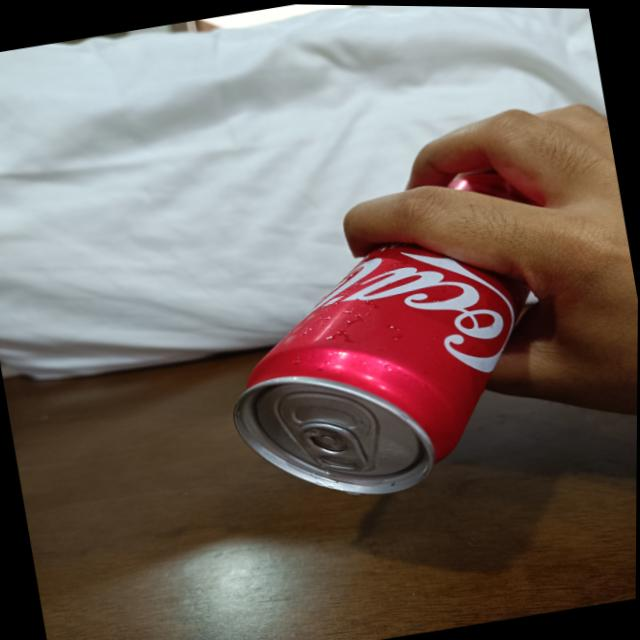coke: (203, 152, 583, 520)
